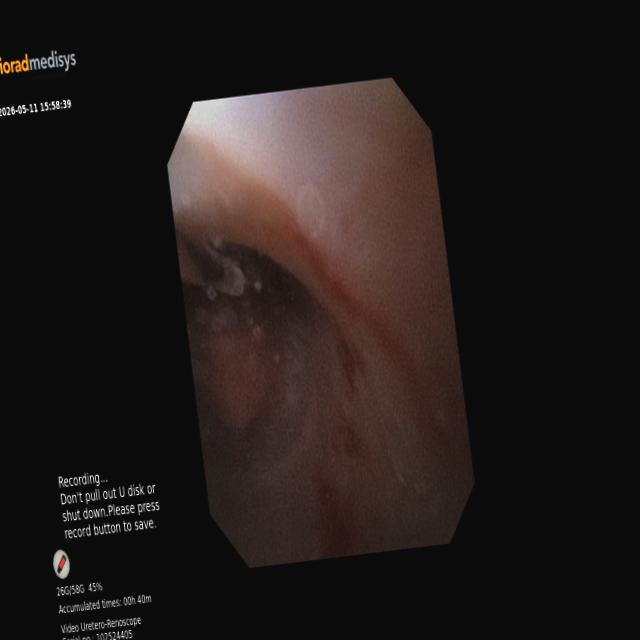laser-fibre: (176, 231, 245, 294)
